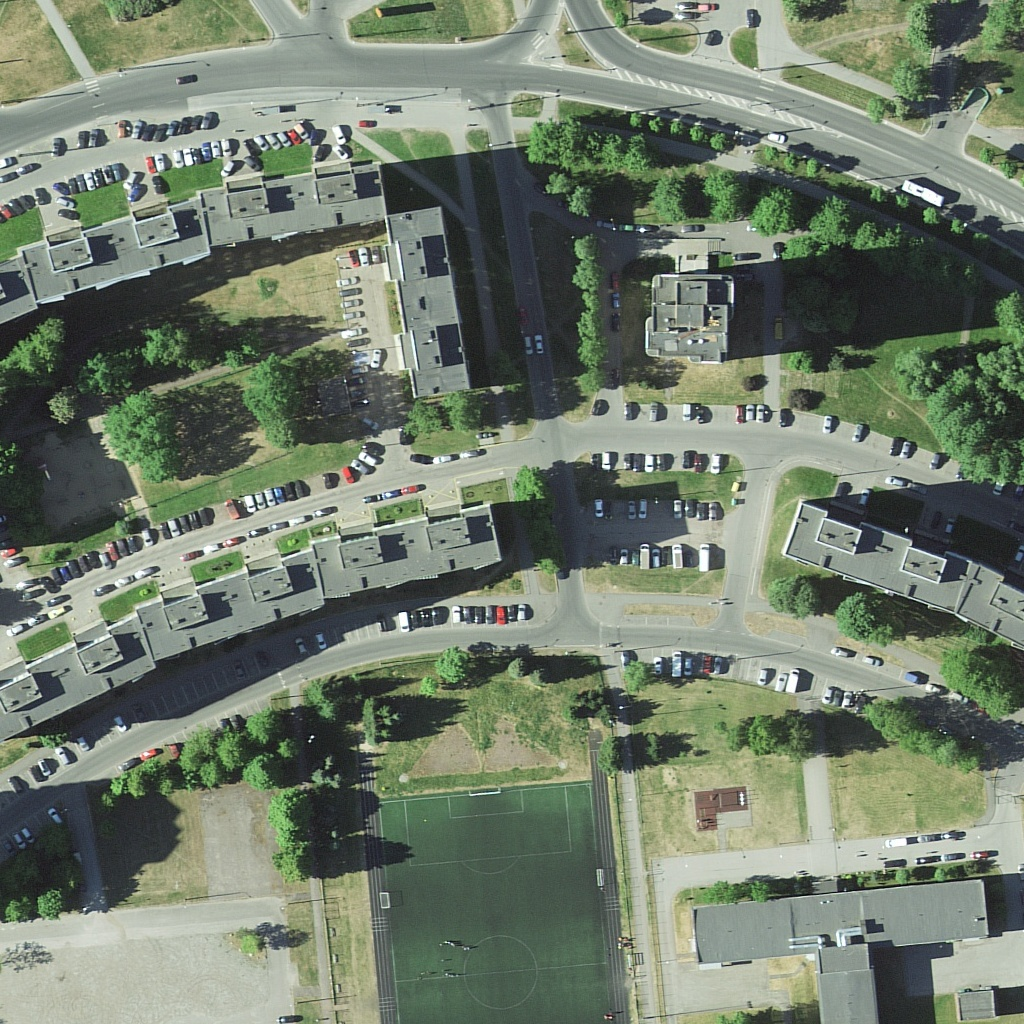building: (685, 873, 1000, 969), (784, 496, 967, 631), (130, 546, 337, 660), (12, 192, 214, 307), (384, 209, 483, 413), (4, 615, 159, 745), (312, 502, 510, 602), (192, 152, 395, 245), (640, 267, 746, 370)
